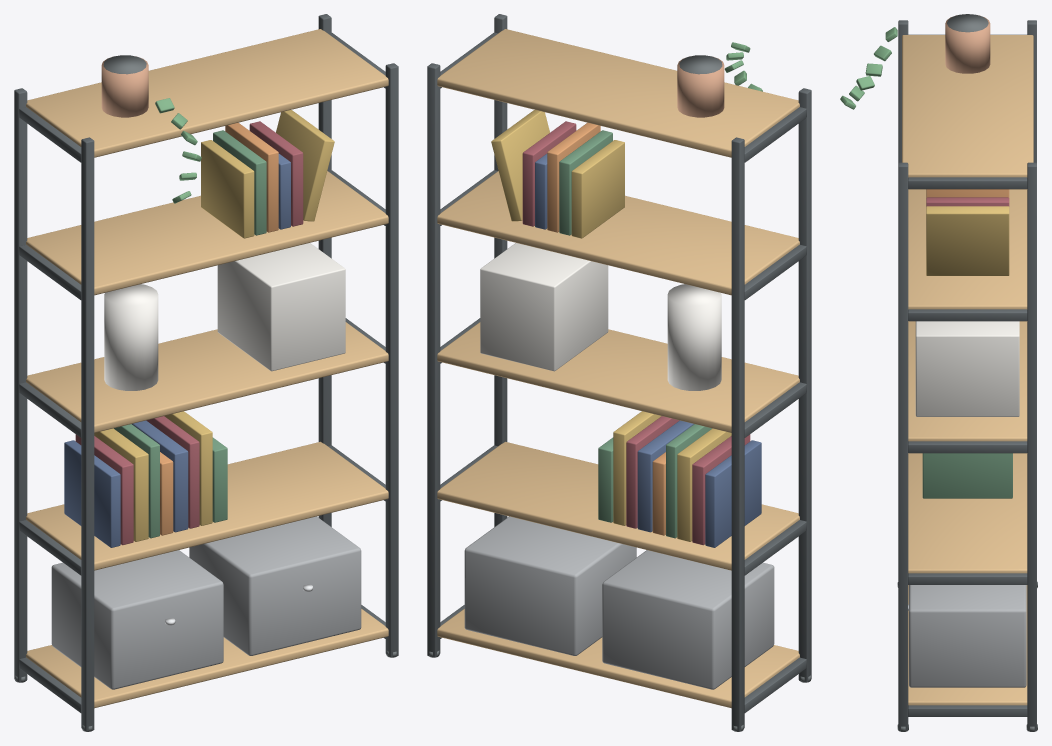
Rendered from storage.shelf-unit.glb.
The picture shows the model from 3 angles, left to right: view 1: azimuth 30°, elevation 25°; view 2: azimuth 150°, elevation 25°; view 3: azimuth 270°, elevation 25°; orthographic projection. The views are drawn at different scales.
Visible parts, largest first — view 1: storage.shelf-unit; view 2: storage.shelf-unit; view 3: storage.shelf-unit.
Boxes of the visible parts, <box> form: storage.shelf-unit: <box>14,14,398,731</box>; storage.shelf-unit: <box>427,14,811,731</box>; storage.shelf-unit: <box>840,14,1037,731</box>.
Bounding box in the file's own units: 1 × 1.9 × 0.5702.
